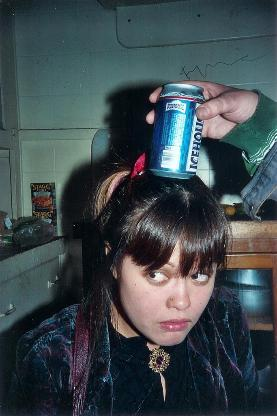Can: (150, 73, 206, 184)
